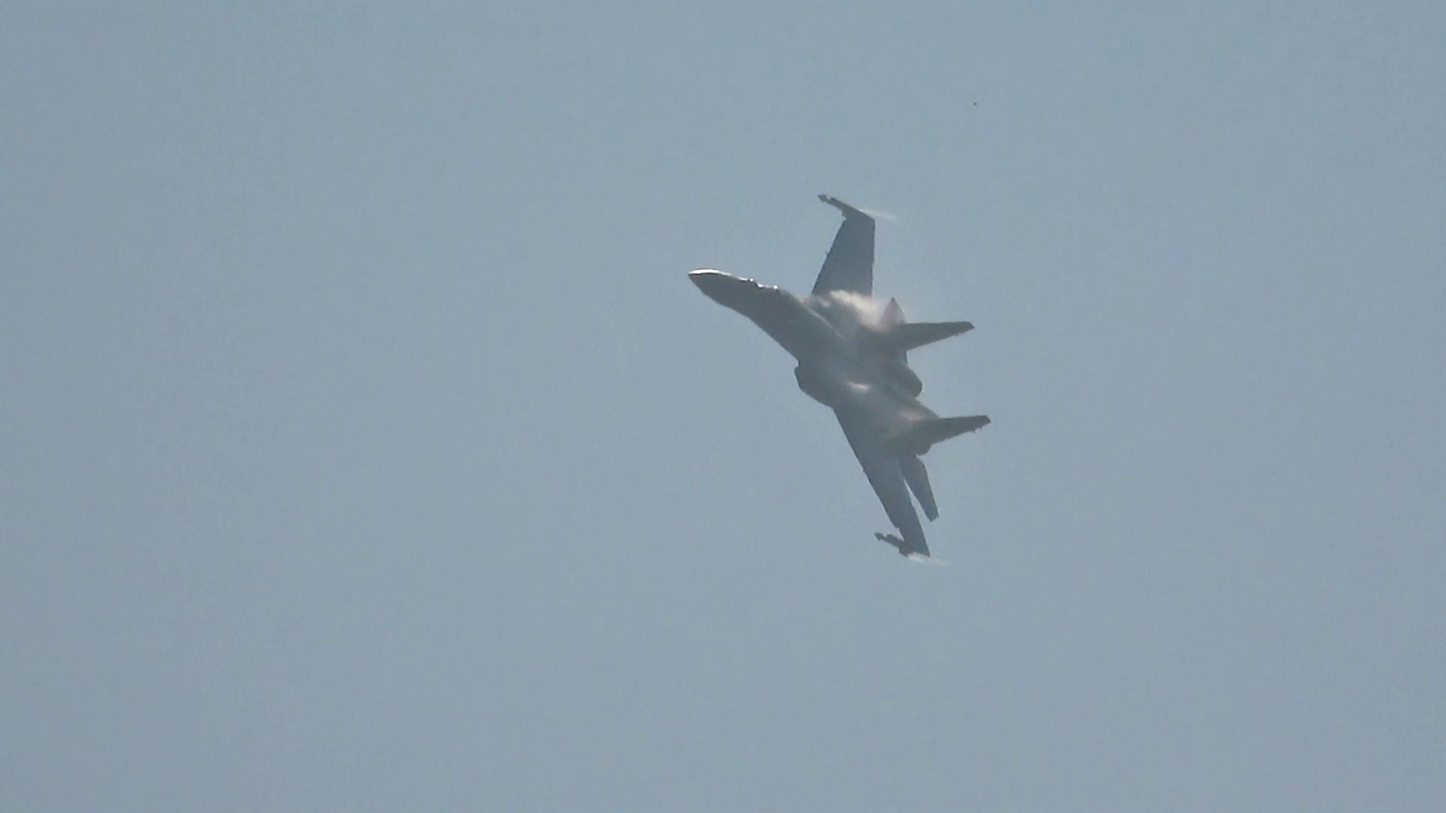Su35: (687, 194, 992, 559)
